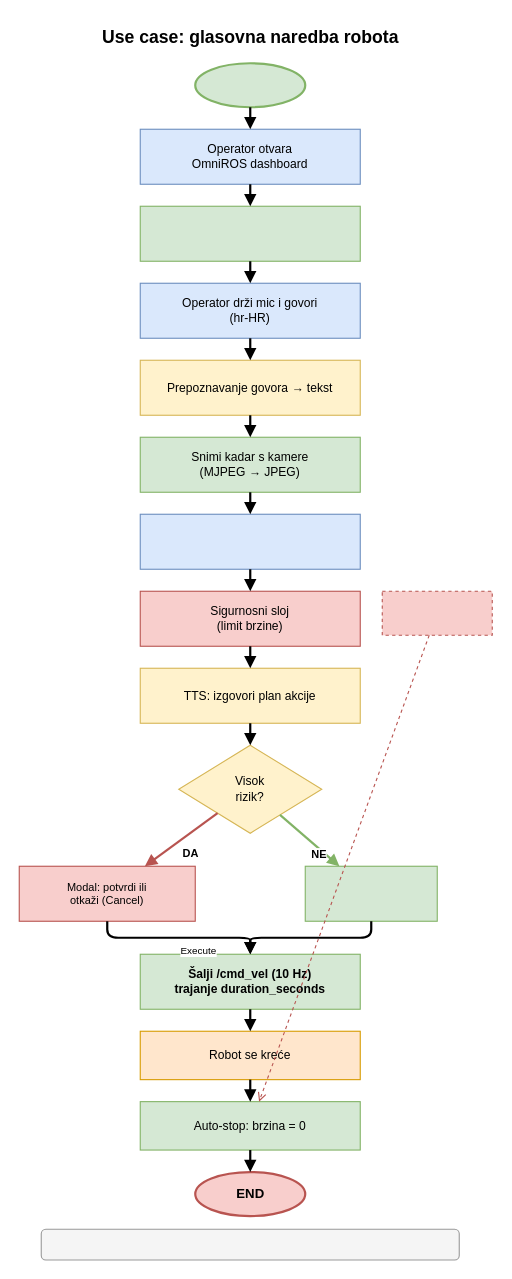
The diagram is 512 pixels wide and 1279 high, and some of its shapes have lost their labels. Here are the shapes that lost their labels. From the top down, the centre of each, then its label:
point 250,85: START
point 249,233: Aplikacija se spaja na ROS (rosbridge :9090)
point 249,541: Gemini: tekst + slika → JSON plan kretanja
point 436,612: E-STOP (bilo kada)
point 370,893: Izvrši odmah
point 249,1244: Plava = operator · Zelena = app/ROS · Žuta = vanjski servis · Crvena = sigurnost
